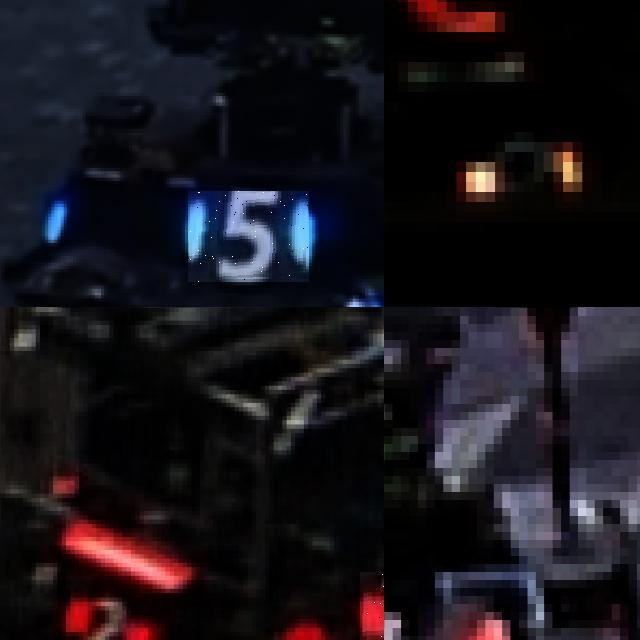B5: (188, 191, 309, 282)
R2: (61, 588, 152, 640), (360, 571, 384, 640)
